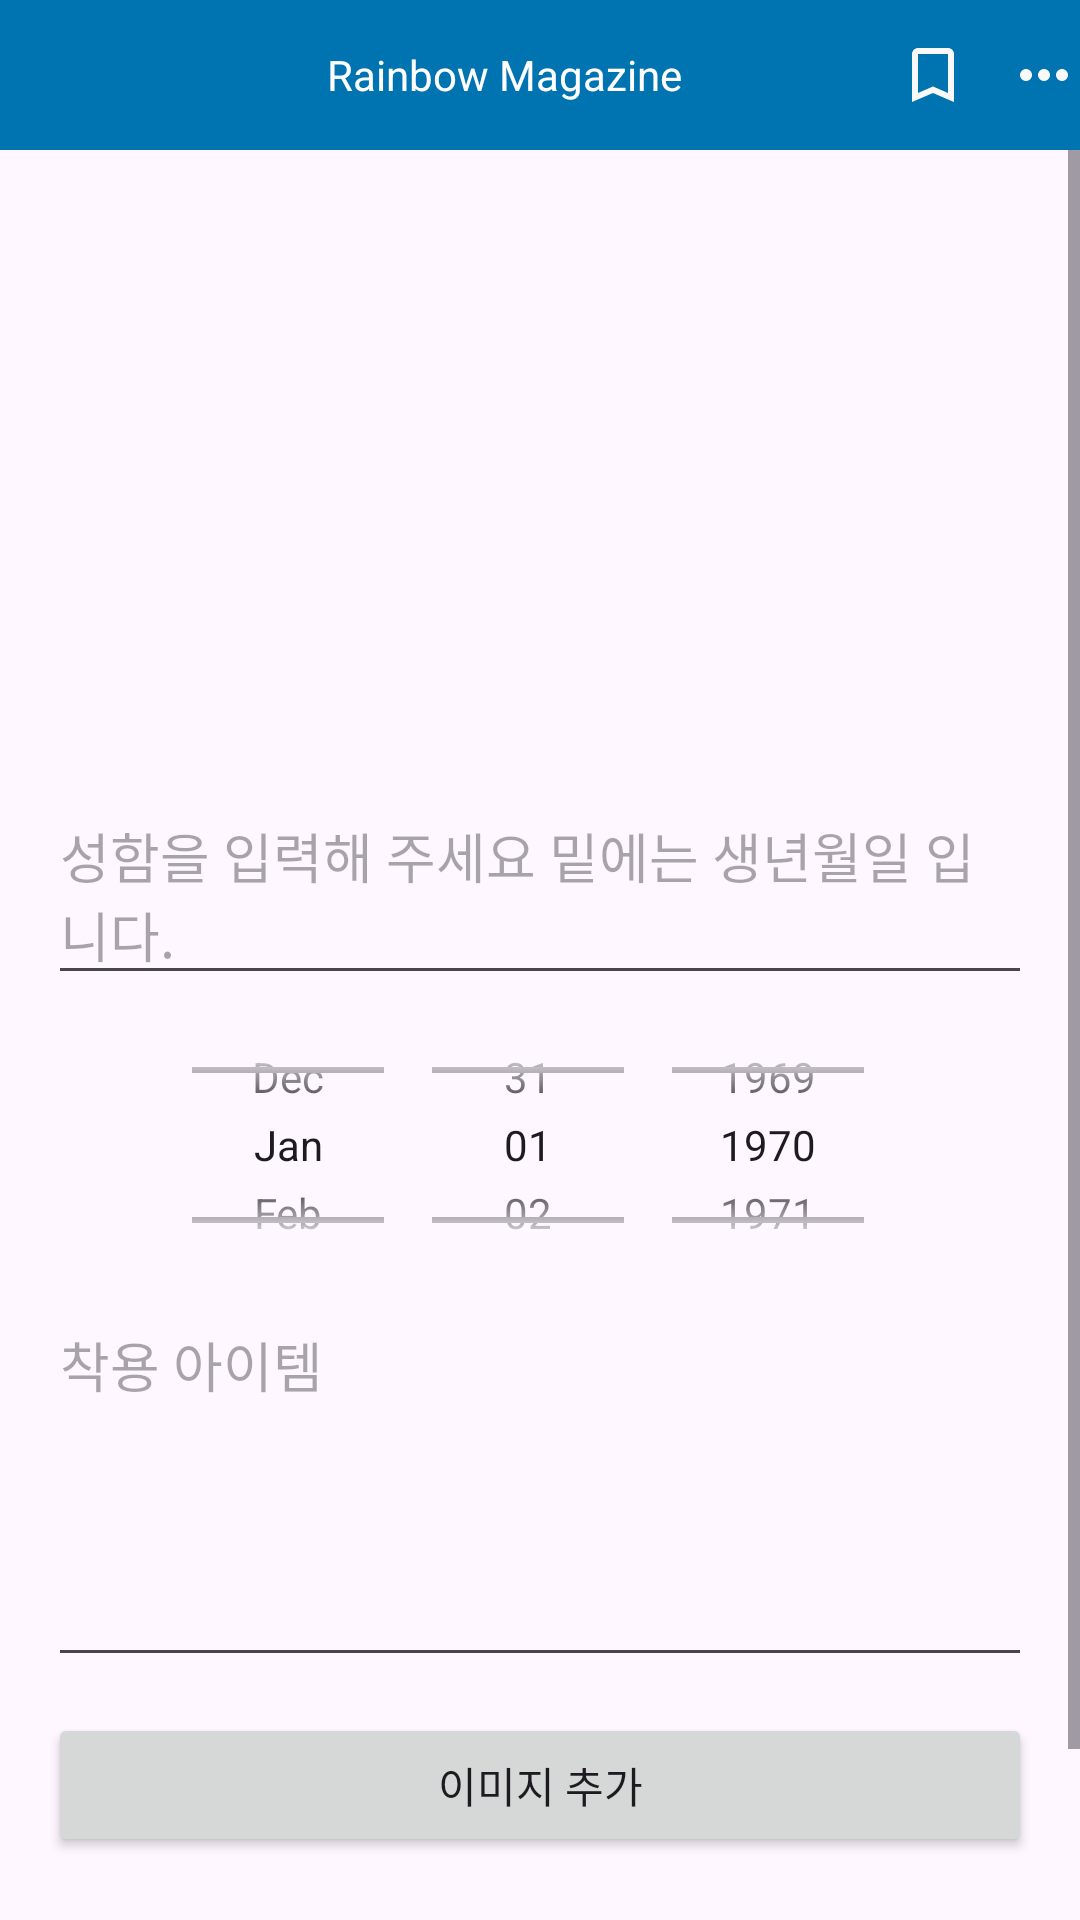

Icons on this 1080w x 1920h Android screen, each with the point to tap as [x,y]:
bookmark: [933,75]
more horiz: [1044,75]
